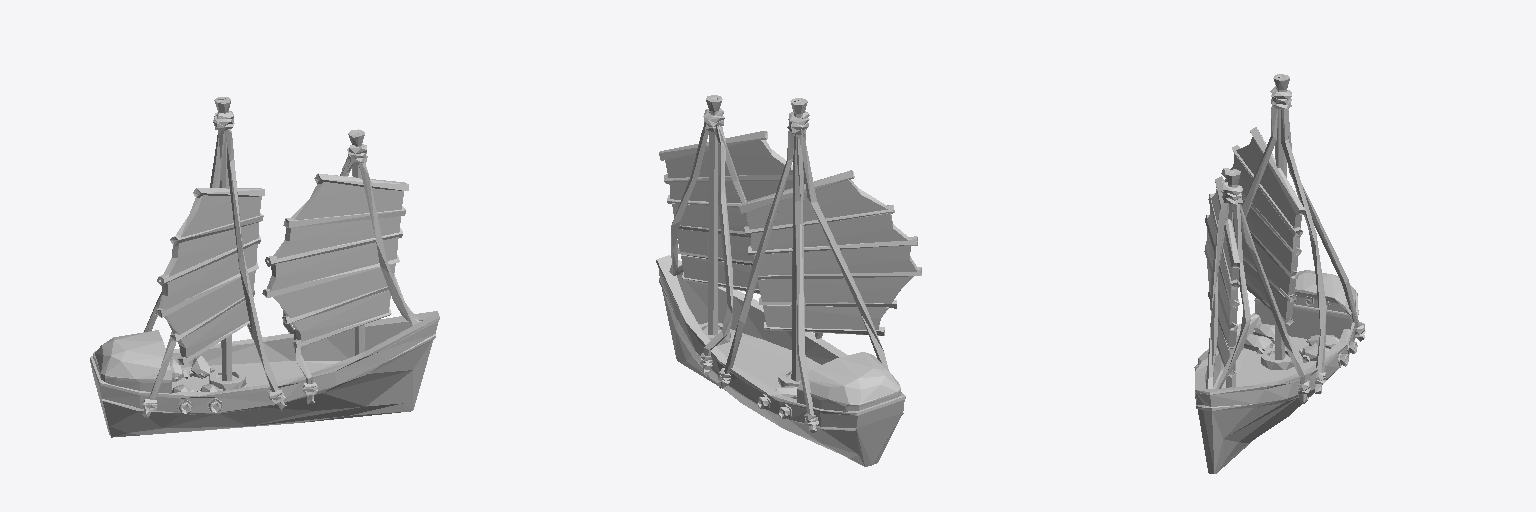
File: navio.obj
3 views of the same model, side by side, from view 1: azimuth 30°, elevation 25°; view 2: azimuth 150°, elevation 25°; view 3: azimuth 270°, elevation 25° (orthographic).
Visible parts, largest first — view 1: 19889_Junk__ship_; view 2: 19889_Junk__ship_; view 3: 19889_Junk__ship_.
Part boxes in pixels (bbox=[...]): 19889_Junk__ship_: bbox=[90, 97, 439, 437]; 19889_Junk__ship_: bbox=[656, 95, 921, 466]; 19889_Junk__ship_: bbox=[1194, 74, 1365, 473].
Bounding box in the file's own units: 8.02 × 8.5 × 4.06.